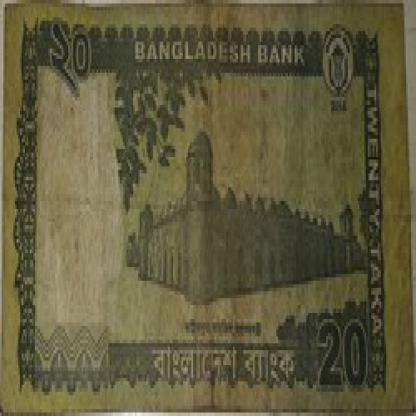Twenty: (310, 315, 374, 398), (48, 24, 98, 94)
